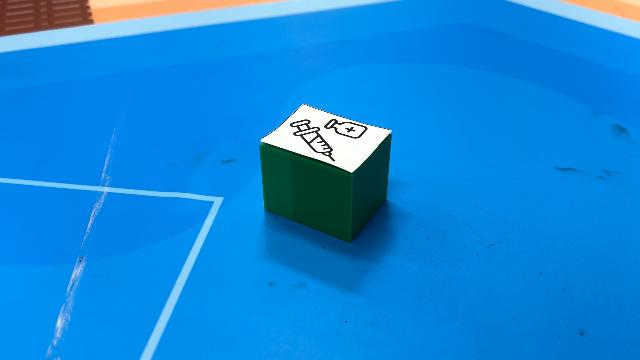syringe: (258, 103, 392, 243)
